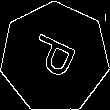P_SE: (25, 30, 85, 85)
